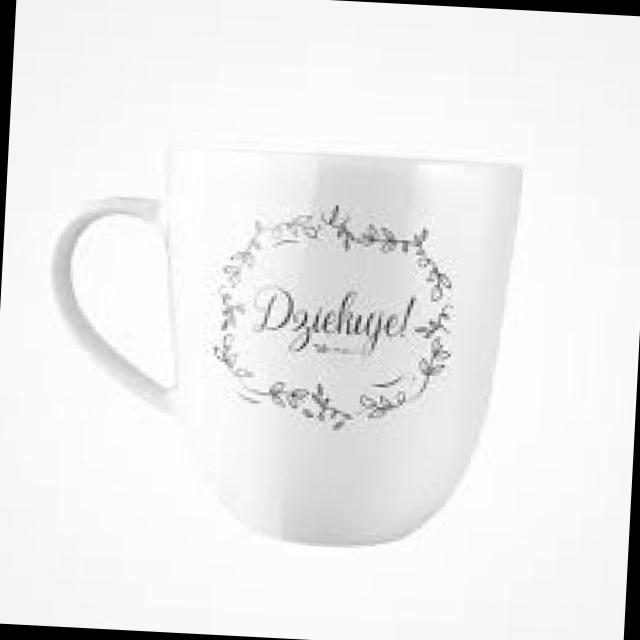Coffee Mug: (37, 132, 525, 558)
